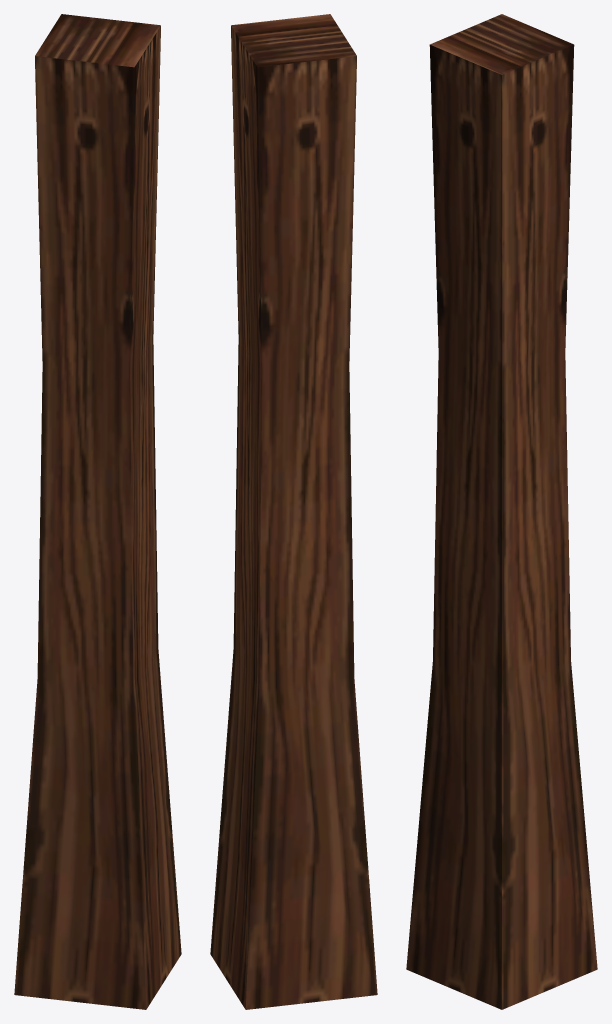
File: OVERHILL_A_01_POST01.fbx
3 renders of one model, left to right at view 1: azimuth 30°, elevation 25°; view 2: azimuth 150°, elevation 25°; view 3: azimuth 270°, elevation 25°, orthographic.
Visible parts, largest first — view 1: OVERHILL_A_01_POST01; view 2: OVERHILL_A_01_POST01; view 3: OVERHILL_A_01_POST01.
Part boxes in pixels (left/top/right/bottom): OVERHILL_A_01_POST01: left=14, top=14, right=181, bottom=1009; OVERHILL_A_01_POST01: left=210, top=14, right=377, bottom=1009; OVERHILL_A_01_POST01: left=406, top=14, right=597, bottom=1009.
Bounding box in the file's own units: 3147 × 16787 × 3147.
1 material, 1 textured.
